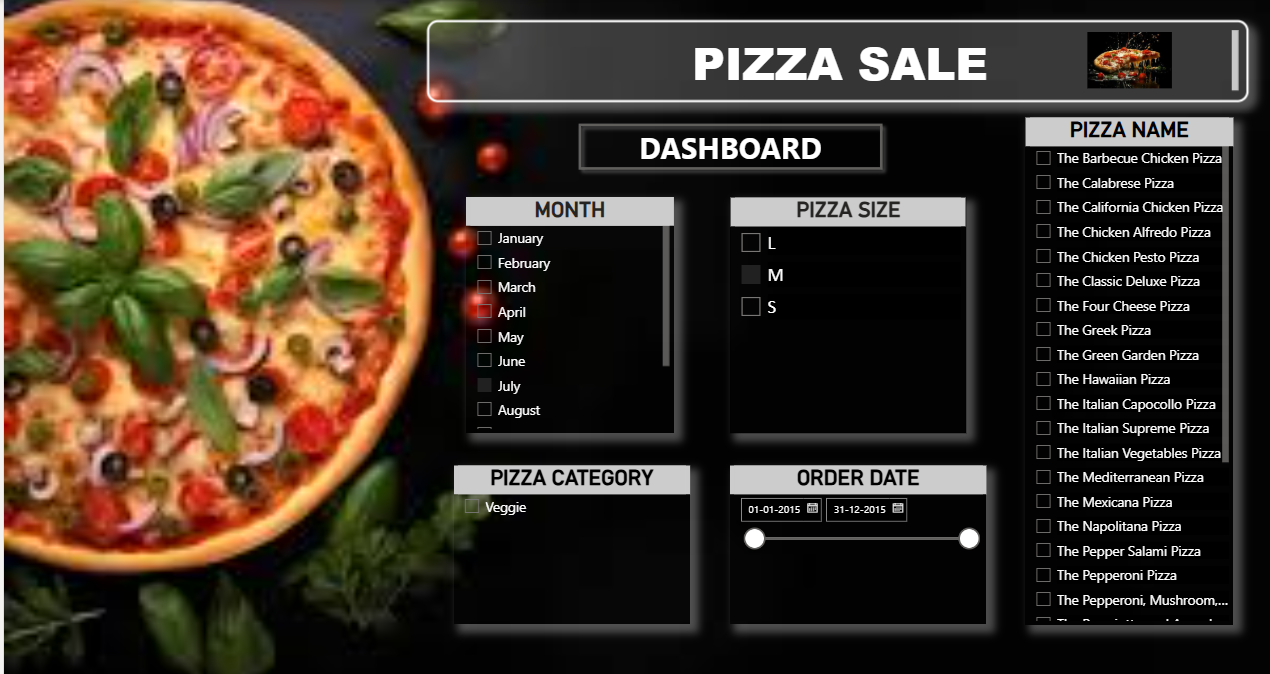

The page's visual inventory and layout, read from the dashboard file:
{"tool":"powerbi","page":{"name":"HOME","canvas":[1500,800],"ordinal":0},"visuals":[{"type":"slicer","title":"PIZZA CATEGORY","fields":{"Values":["pizza_sales.pizza_category"]},"box":[531.5,551.4,279,188.2],"z":0},{"type":"slicer","title":"ORDER DATE","fields":{"Values":["pizza_sales.order_date"]},"box":[859.3,551.4,303.4,188.2],"z":1000},{"type":"slicer","title":"PIZZA NAME","fields":{"Values":["pizza_sales.pizza_name"]},"box":[1209.2,139.5,245.8,600.2],"z":2000},{"type":"slicer","title":"PIZZA SIZE","fields":{"Values":["pizza_sales.pizza_size"]},"box":[859.3,234.7,279,279],"z":3000},{"type":"textbox","box":[500.5,24.4,972.2,97.4],"z":4000},{"type":"slicer","title":"MONTH","fields":{"Values":["pizza_sales.order_date.Variation.Date Hierarchy.Month"]},"box":[547,234.7,245.8,279],"z":5000},{"type":"actionButton","box":[670.5,138.9,377.5,72.5],"z":6000},{"type":"image","box":[1162.3,33.9,338.5,76.7],"z":7000}]}

Visuals, with their boxes in screenshot pixels (x1, y1, x2, y2), scaled from the page's 1500x800 canvas onto the 1270x674 screenshot:
"PIZZA CATEGORY" slicer: [450, 465, 686, 623]
"ORDER DATE" slicer: [728, 465, 984, 623]
"PIZZA NAME" slicer: [1024, 118, 1232, 623]
"PIZZA SIZE" slicer: [728, 198, 964, 433]
textbox: [424, 21, 1247, 103]
"MONTH" slicer: [463, 198, 671, 433]
actionButton: [568, 117, 887, 178]
image: [984, 29, 1269, 93]
